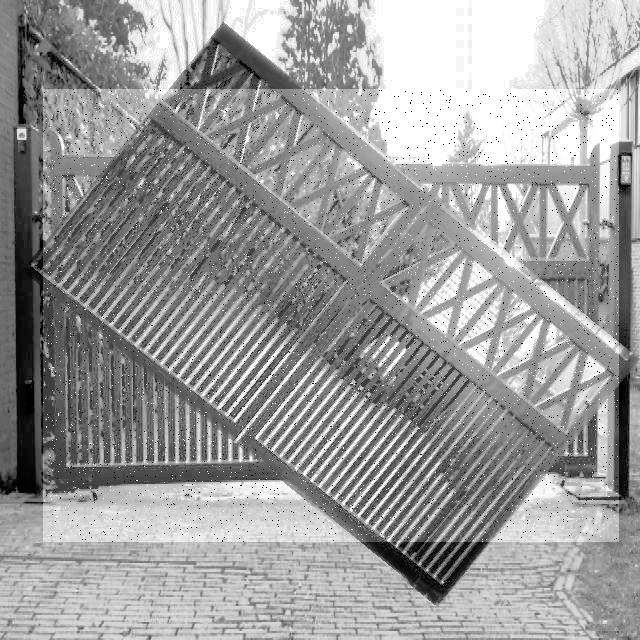fences: (43, 89, 619, 542)
